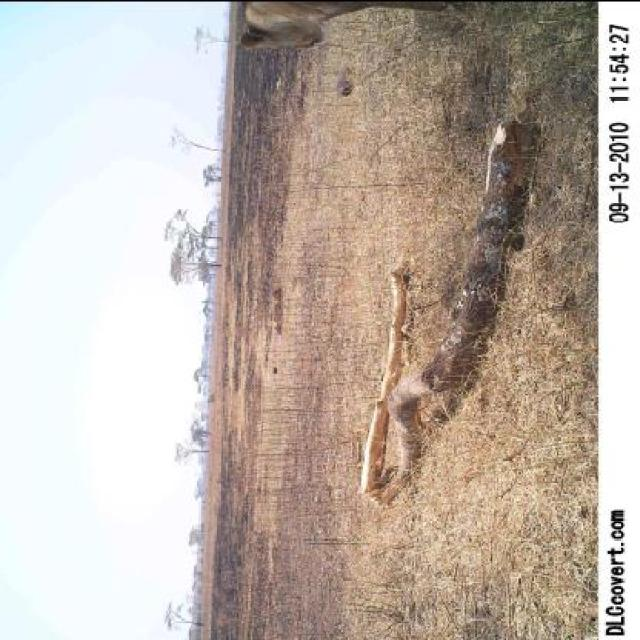Lion: (214, 0, 497, 58)
